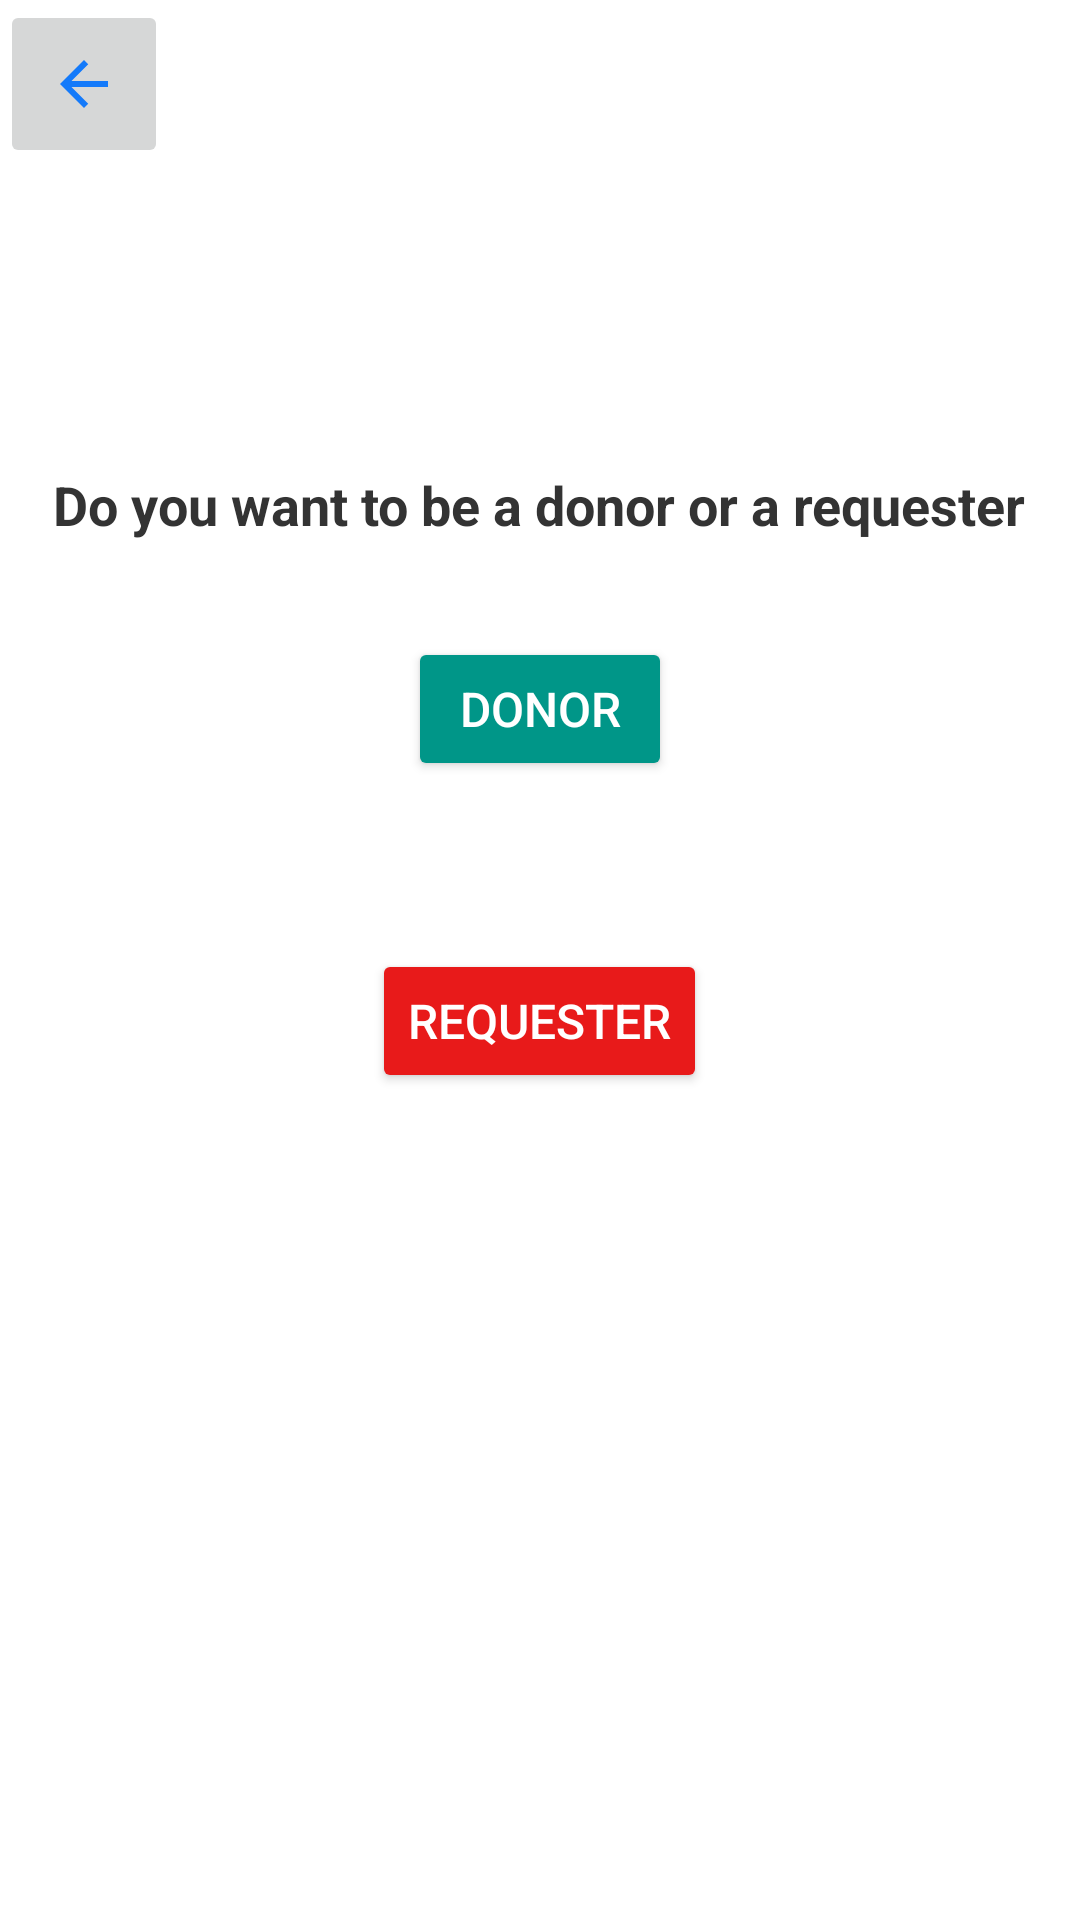

Named icons in this screenshot (1080px×1920px) and their centers, (x,y):
arrow back: (84,84)
